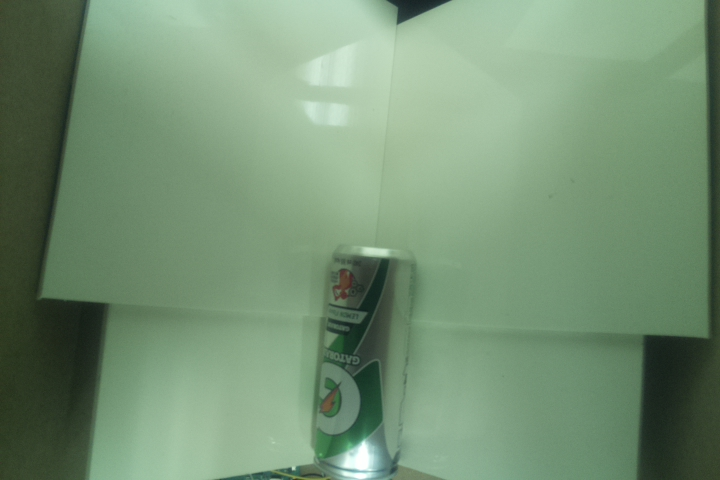can: (309, 244, 419, 480)
